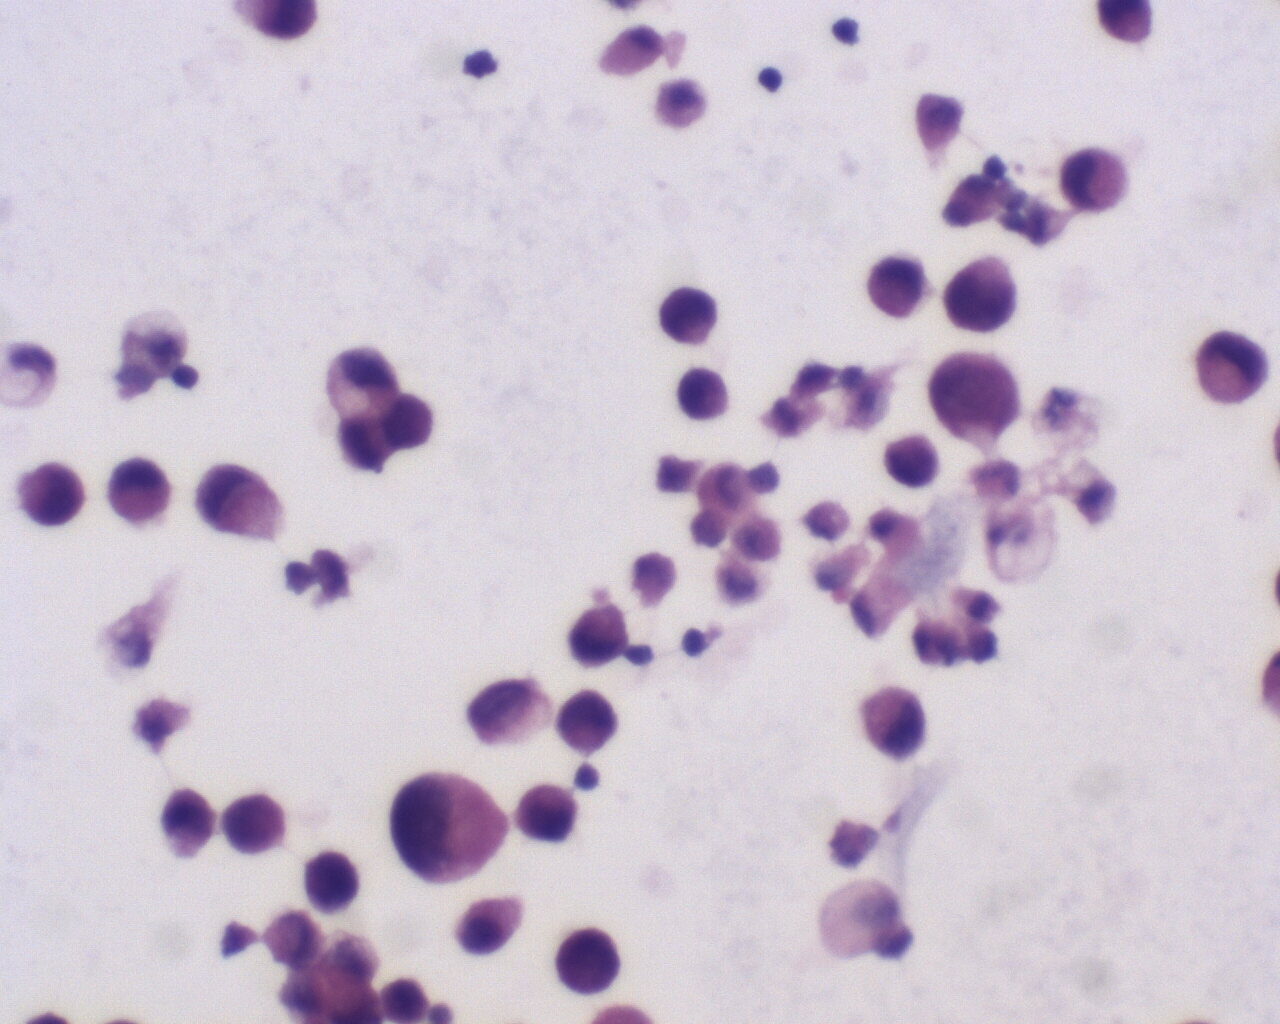ab: (388, 768, 515, 886), (926, 345, 1024, 444), (942, 255, 1025, 331), (856, 677, 927, 761), (220, 789, 294, 860), (104, 452, 174, 527), (300, 845, 367, 923), (11, 460, 86, 529), (554, 927, 626, 996), (555, 688, 622, 757), (514, 783, 580, 847), (659, 282, 723, 348), (670, 366, 740, 424), (885, 425, 942, 489)
histo: (1188, 323, 1270, 412)
